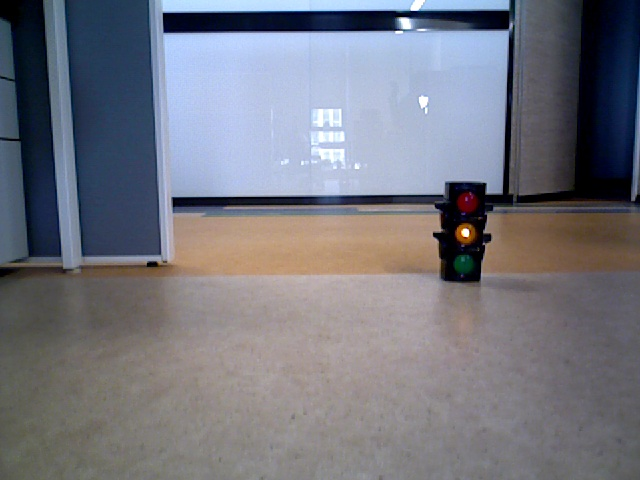yellow: (445, 181, 479, 278)
